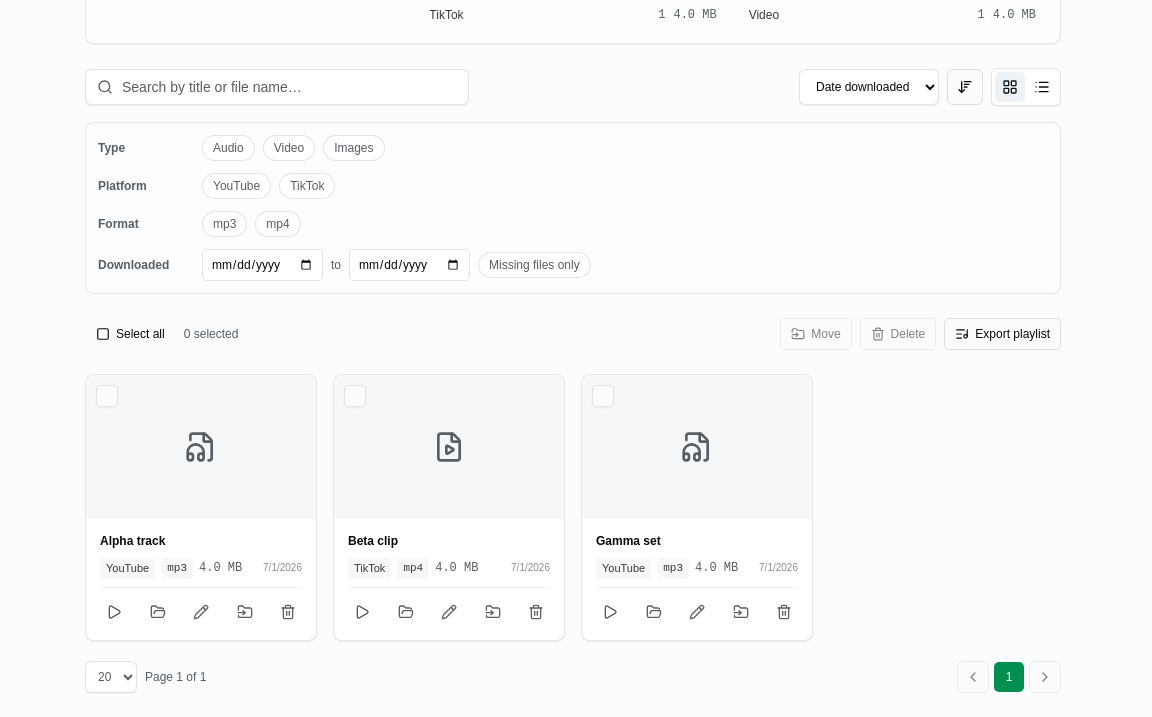
Test: Library — deleting (FR-318, FR-320, FR-322) › does not delete anything when the confirmation is dismissed
(page scrolled)
What coordinates should you click on to do the following:
click the button with test id "library-action-delete"
I would click on:
 (288, 612)
Its box is [274,598,302,626].
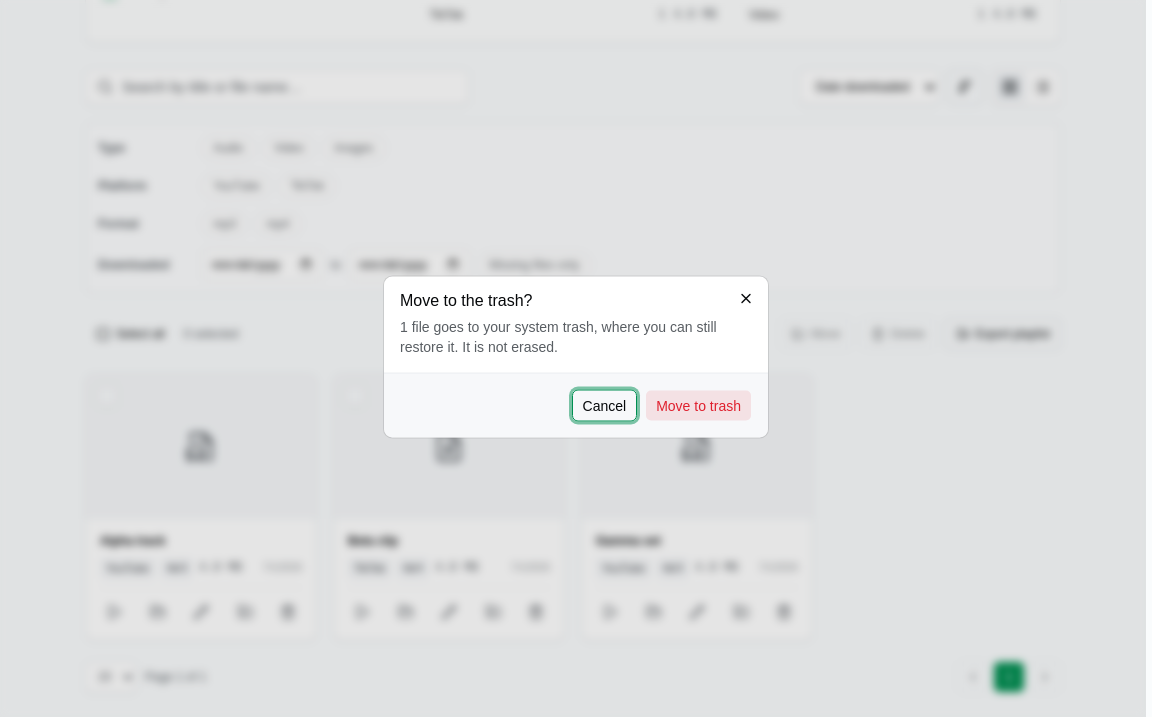
What coordinates should you click on to do the following:
click the button with test id "library-confirm-cancel"
I would click on:
 (604, 406)
Its box is [572,390,637,422].
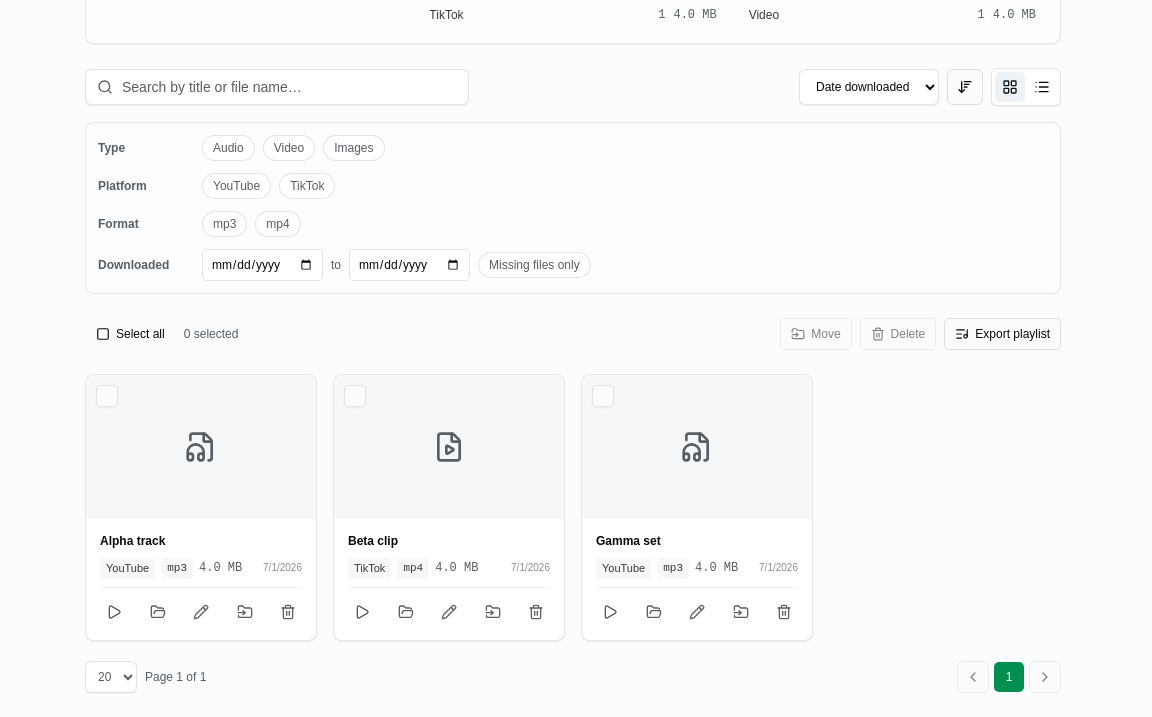
expect the button with test id "library-confirm-submit" is gone: met
